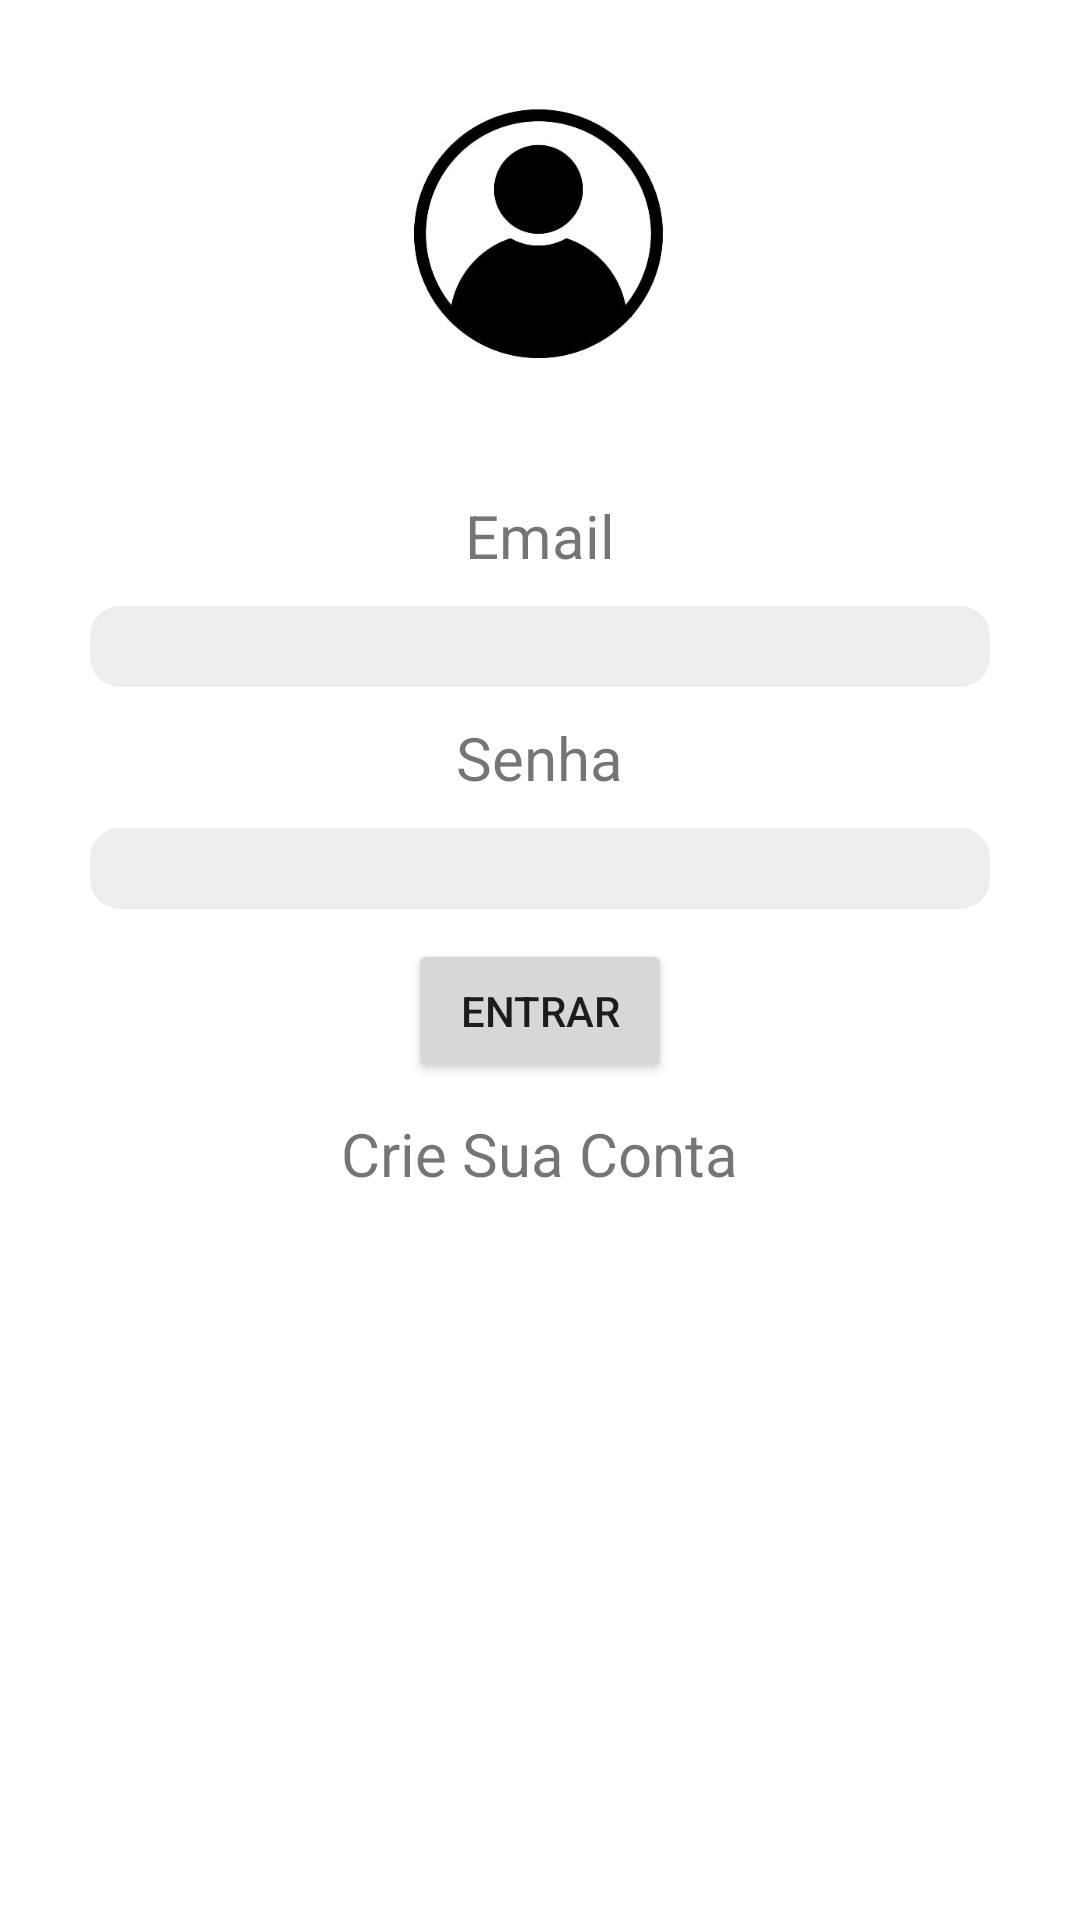

Locate icon controls on the screen. Image size 1080×1920, boxes as [left=x1, top=y1, right=x2, bottom=y2].
Imagem de Login: [left=414, top=109, right=663, bottom=358]
